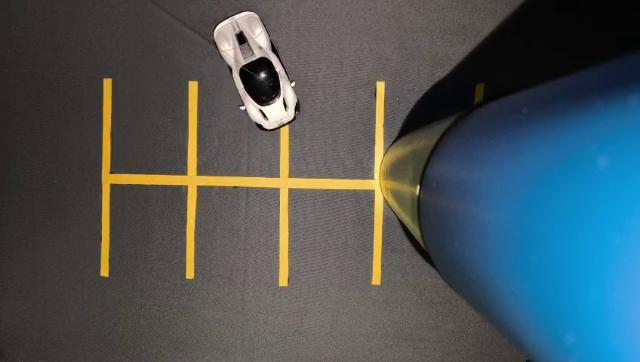toy_car: (183, 6, 328, 140)
